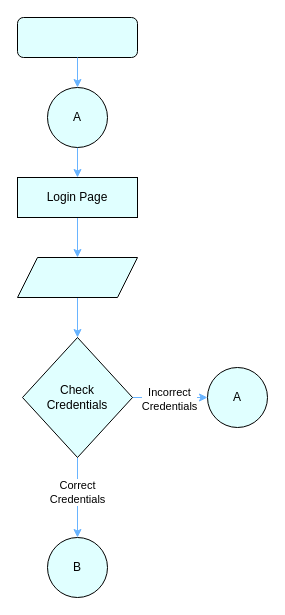
This 285x615 diagram has some shape labels left out. Each missing label, with the box of its shape:
Start: (16, 16, 138, 58)
username & password: (16, 256, 138, 298)
